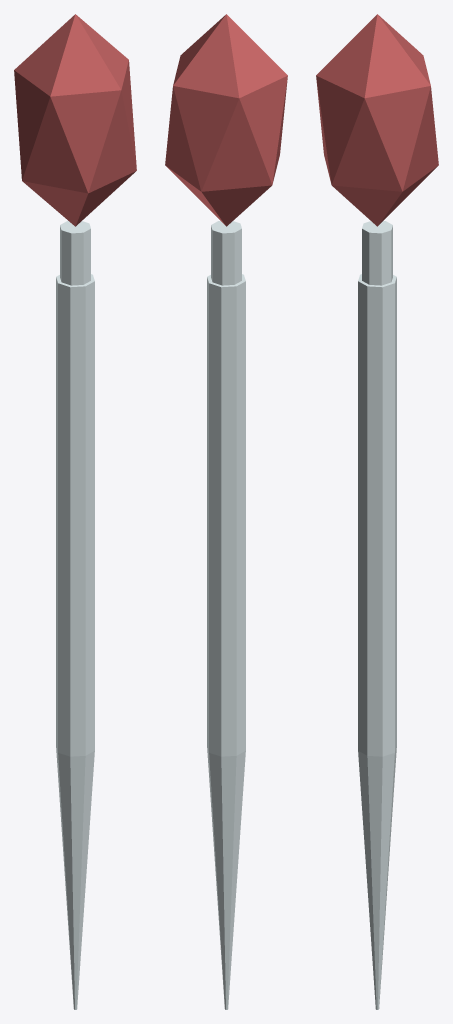
File: pasteur_pipette_lowpoly.fbx
3 renders of one model, left to right at view 1: azimuth 30°, elevation 25°; view 2: azimuth 210°, elevation 25°; view 3: azimuth 330°, elevation 25°, orthographic.
Parts seen in each view (by area): view 1: Pipette_Body, Pipette_Bulb; view 2: Pipette_Body, Pipette_Bulb; view 3: Pipette_Body, Pipette_Bulb.
Boxes of the visible parts, x1,y1,x2,y2 form: Pipette_Body: [56, 221, 94, 1009]; Pipette_Bulb: [14, 14, 136, 226]; Pipette_Body: [207, 221, 245, 1009]; Pipette_Bulb: [165, 14, 287, 226]; Pipette_Body: [358, 221, 396, 1009]; Pipette_Bulb: [316, 14, 438, 226].
Bounding box in the file's own units: 2.15 × 19.08 × 2.04.
